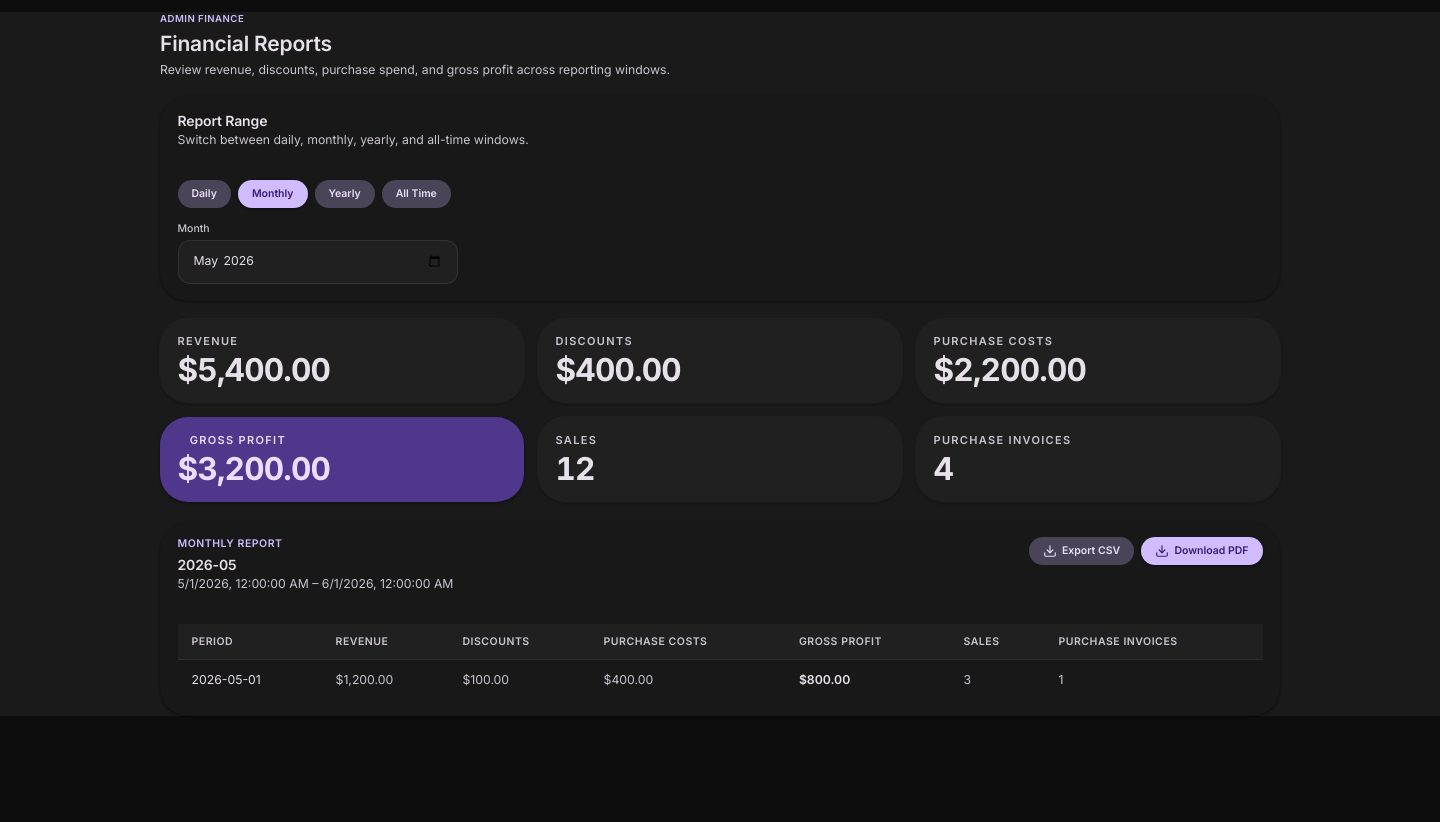
Test case: FinancialReportsPage › loads the default monthly report and switches to all-time with export actions
The width and height of the screenshot is (1440, 822).
Check: the heading "Financial Reports" is shown, box [160,30,332,56]
Click the button "All Time": (416, 194) [382,180,451,208]
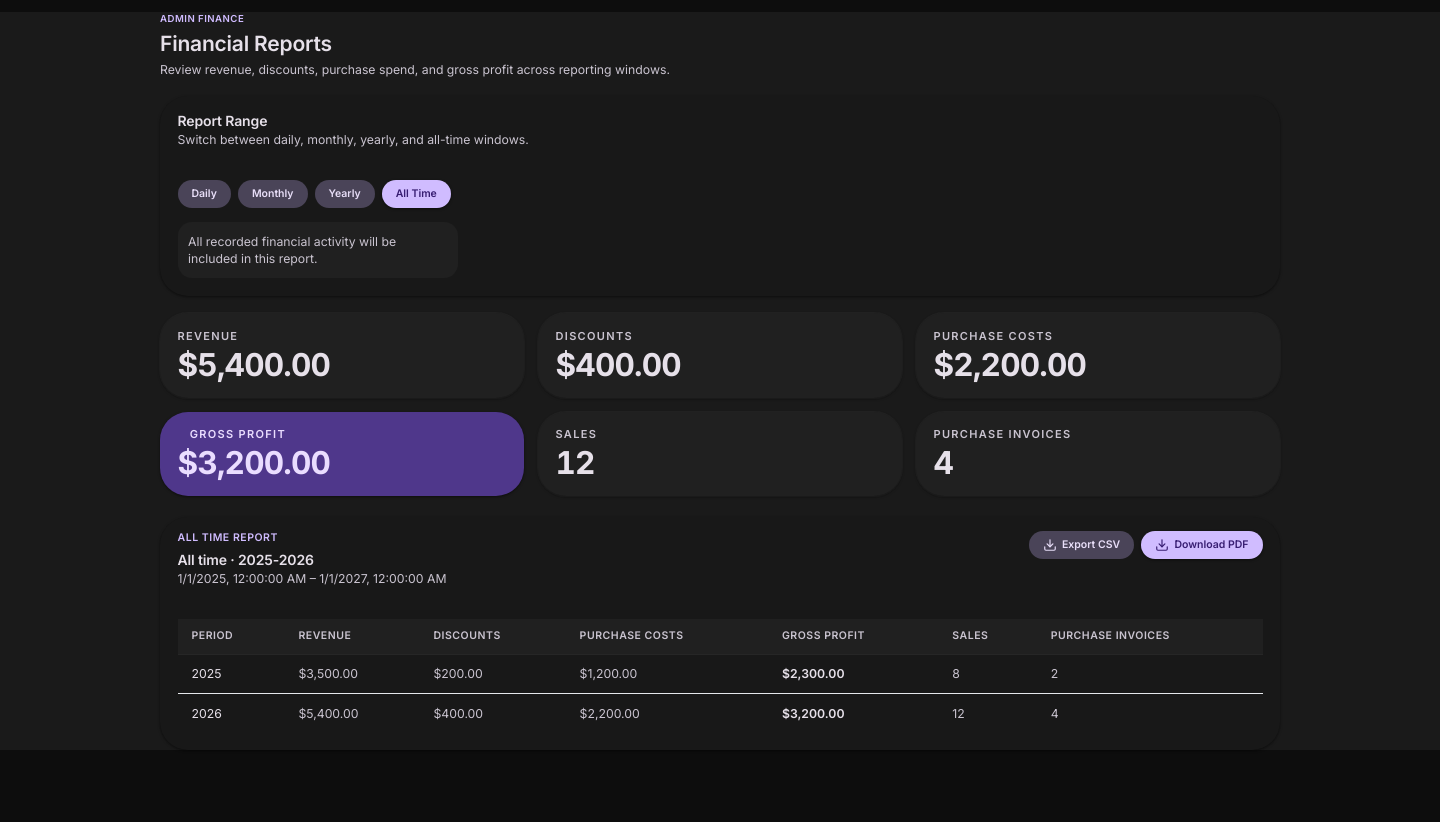
Check: the button "Export CSV" is shown, box [1029,531,1134,559]
Check: the heading "All time · 2025-2026" is shown, box [178,550,314,568]
